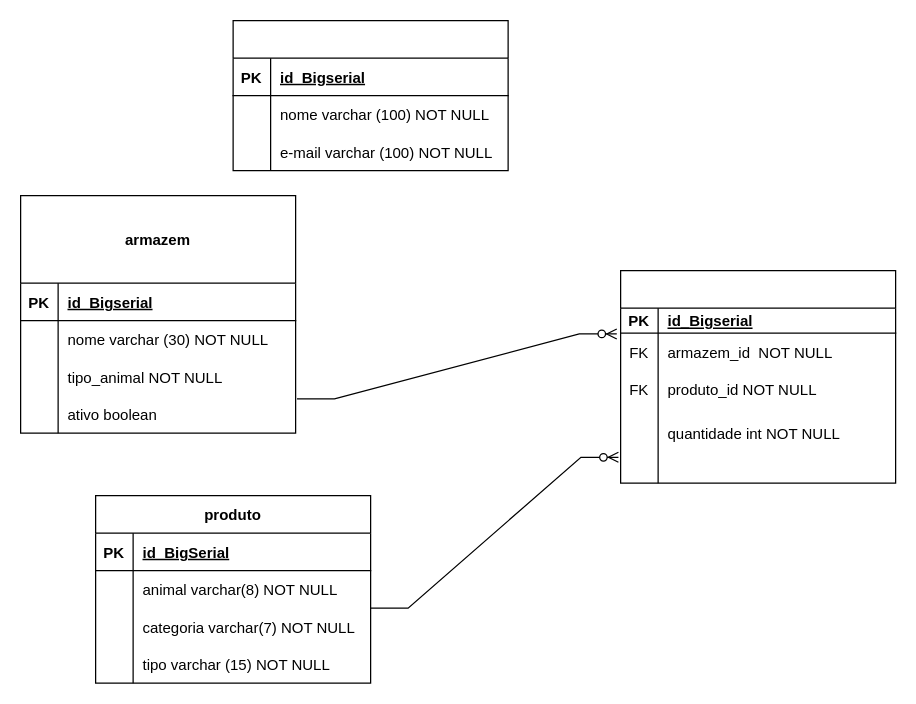
Image size: 916x704. Some labels were removed from this diagram. The box of each missing label's shape, as (x1, y1, x2, y2) in pixels:
estoque: (619, 269, 896, 483)
usuario: (232, 19, 508, 171)
